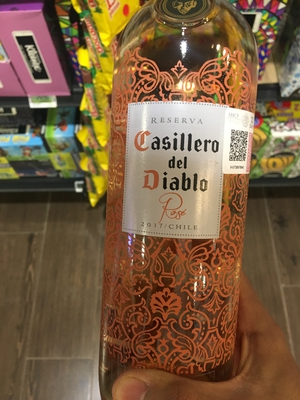casillero del diablo rose: (100, 8, 270, 386)
